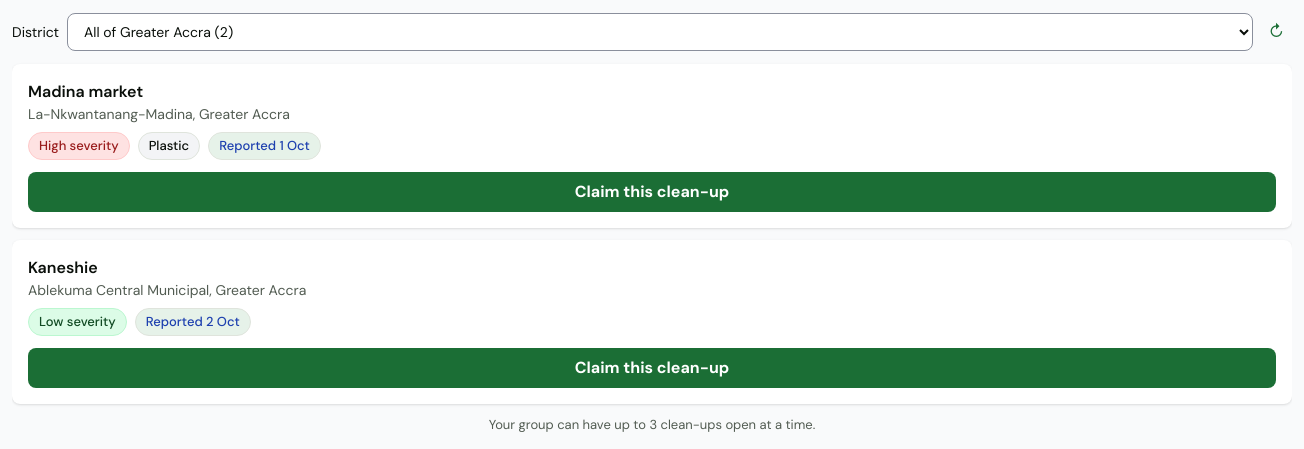
Test: Claim tab › lists the region and filters by district
Expected: the number of elements with test id "claim-card" is 2, [12,64,1292,228]; [12,240,1292,404]
Select "La-Nkwantanang-Madina (1)" in the dropdown labelled "District". click: [660, 32]
box: [67,13,1253,51]
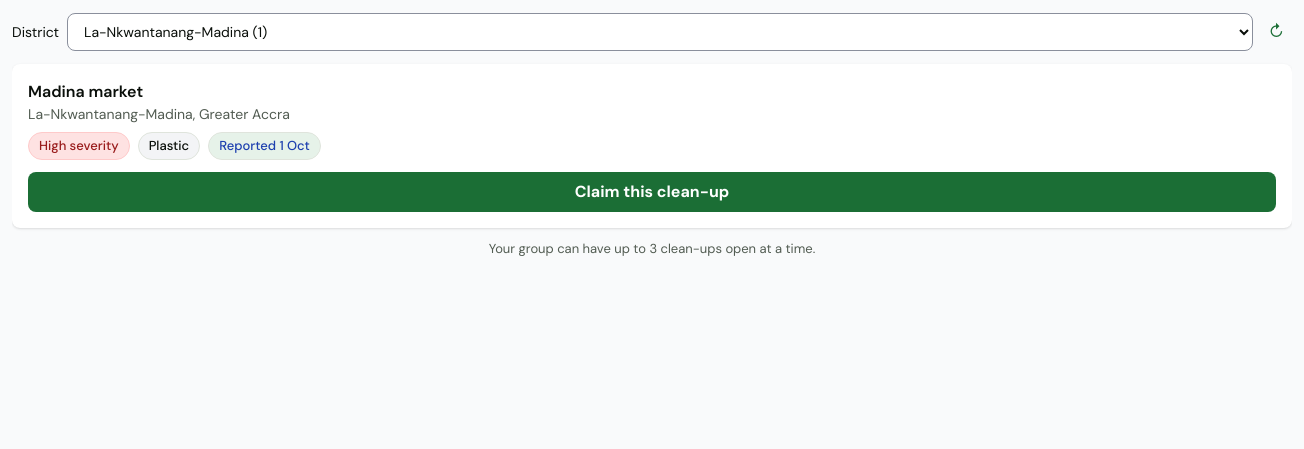
Expected: the heading "Madina market" is shown, [28,81,143,102]
Now the number of elements with test id "claim-card" is 1, box [12,64,1292,228]
